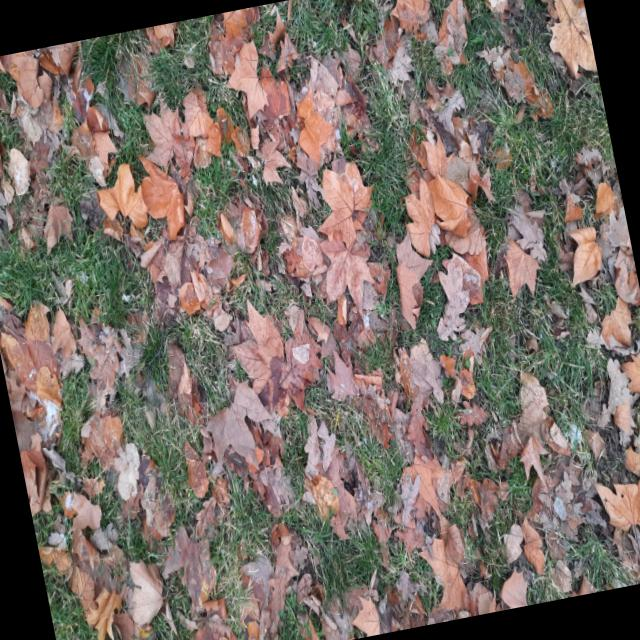grass: (286, 0, 640, 611), (0, 142, 343, 640), (209, 370, 443, 640), (79, 14, 250, 186)
